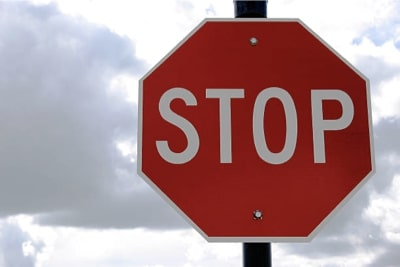StopSign: (135, 16, 379, 244)
